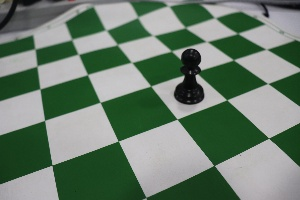black_pawn: (165, 40, 211, 110)
